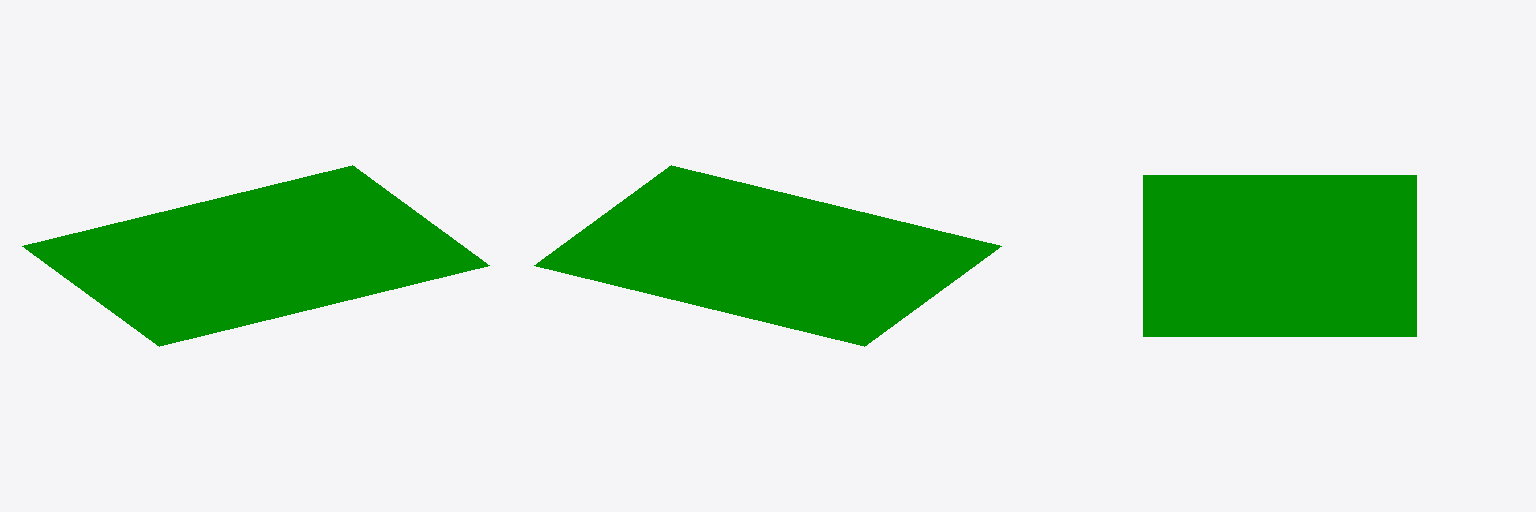
File: table.obj
The picture shows the model from 3 angles: view 1: azimuth 30°, elevation 25°; view 2: azimuth 150°, elevation 25°; view 3: azimuth 270°, elevation 25°; orthographic projection.
Parts seen in each view (by area): view 1: Plane; view 2: Plane; view 3: Plane.
Part boxes in pixels (left/top/right/bottom): Plane: left=22, top=165, right=489, bottom=346; Plane: left=534, top=165, right=1001, bottom=346; Plane: left=1143, top=175, right=1416, bottom=336.
Bounding box in the file's own units: 1420 × 0.0002 × 1020.